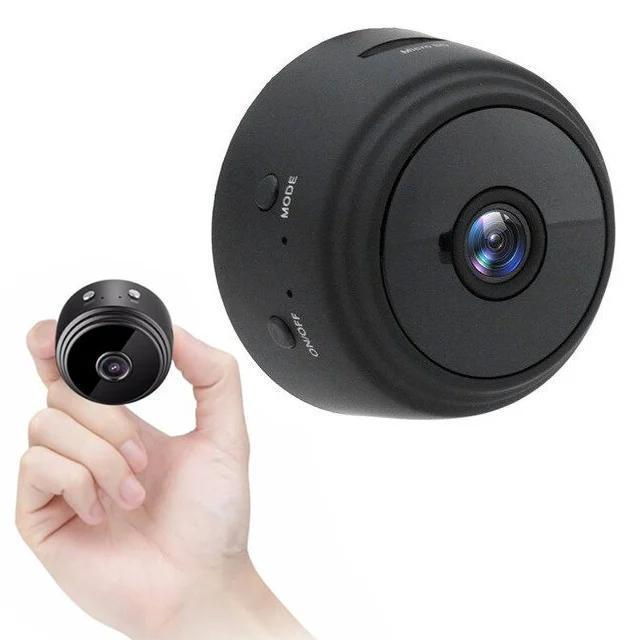hidden camera: (466, 206, 534, 288), (106, 362, 125, 376)
